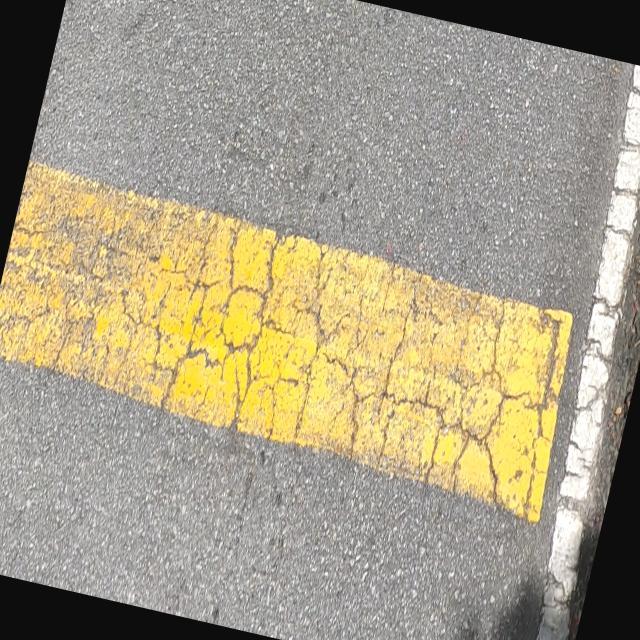Retak-Buaya: (58, 210, 557, 516)
